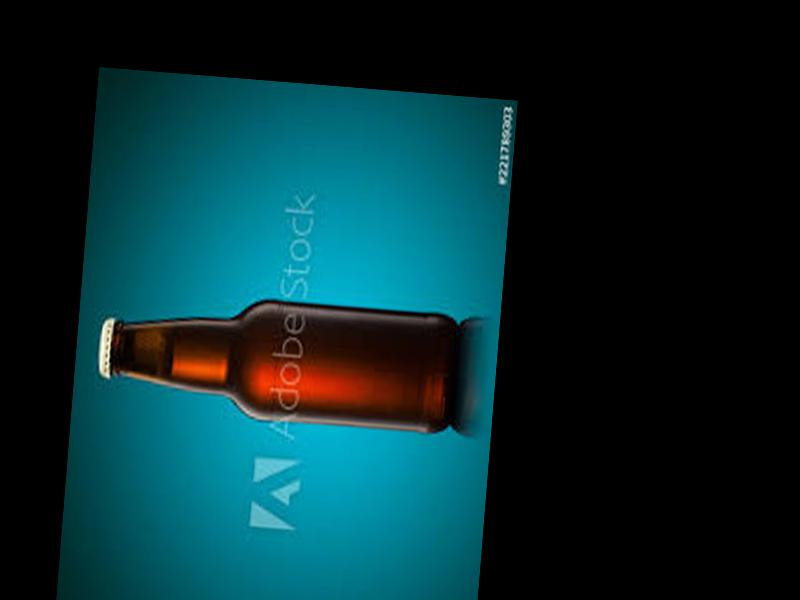Beer: (94, 284, 461, 434)
